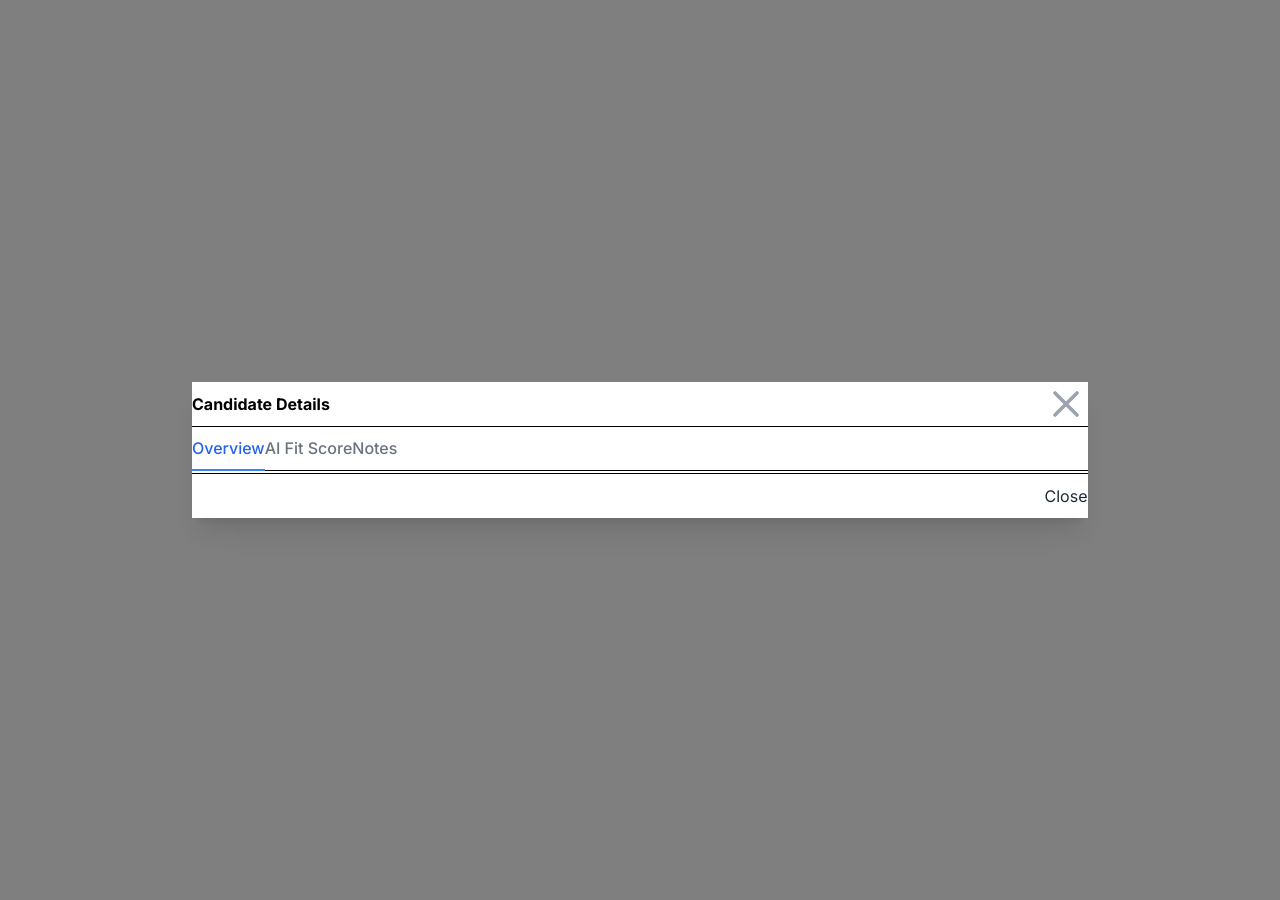
Scenario: CandidateDetailModal Component › Notes Tab Content › should display all notes
The image size is (1280, 900).
Click the button "Notes".
click(375, 449)  # box [352,427,397,471]
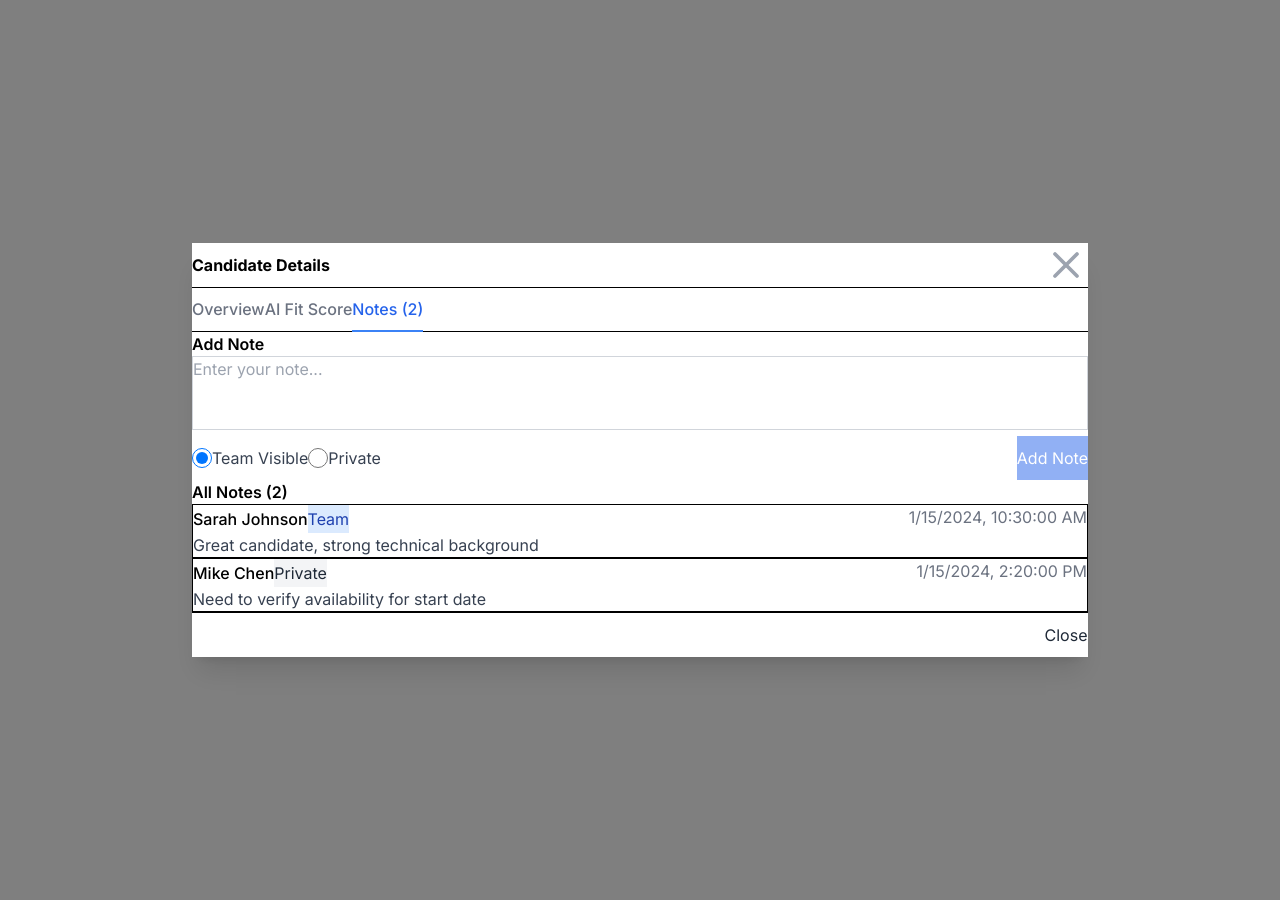
Check: the text "Great candidate, strong technical background" is shown, box [193,535,539,555]
Check: the text "Need to verify availability for start date" is shown, box [193,589,486,609]
Check: the text "Sarah Johnson" is shown, box [193,507,308,531]
